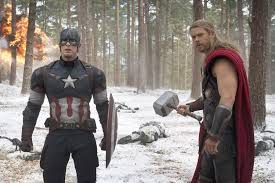THOR Hammer: (148, 86, 207, 125)
